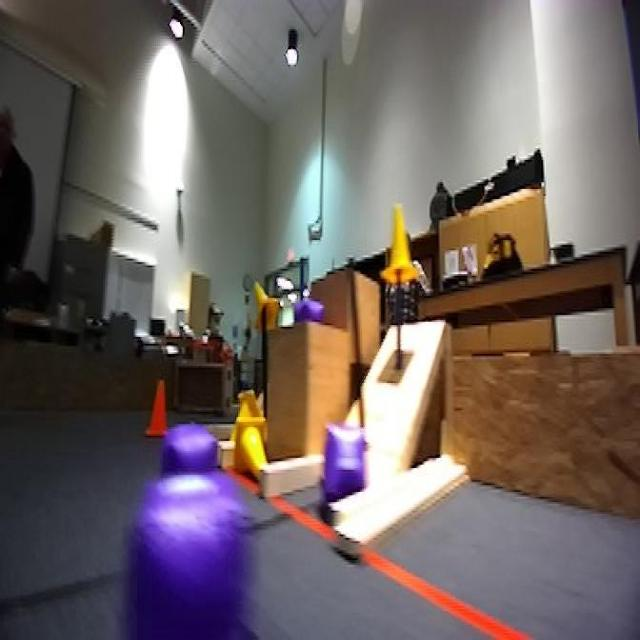frc_cone: (235, 415, 272, 482), (384, 206, 413, 277), (251, 279, 281, 335), (235, 380, 259, 422)
frc_cube: (127, 485, 266, 640), (164, 422, 228, 535), (320, 416, 375, 488), (298, 300, 327, 330)
